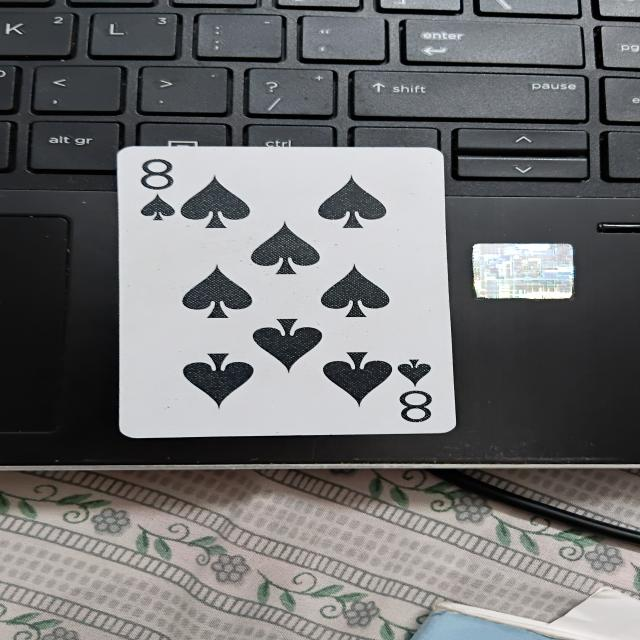8S: (128, 152, 454, 436)
